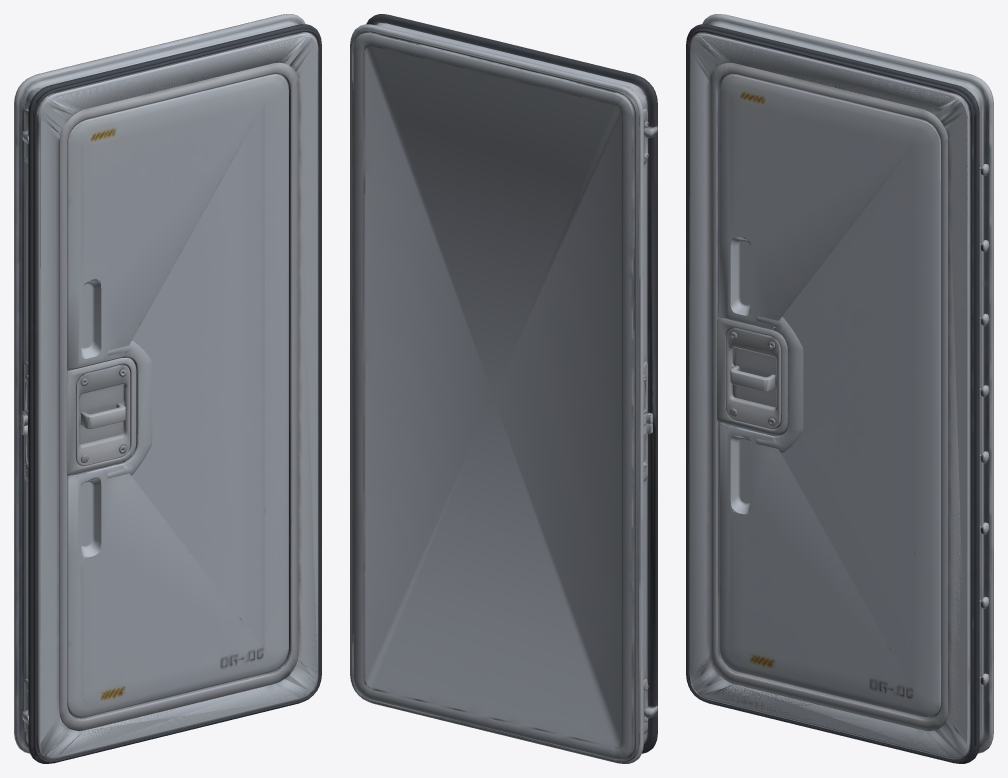
File: tripo_convert_e5aa2199-2188-4ba5-9204-cc80c53cec1e.fbx
The picture shows the model from 3 angles, left to right: view 1: azimuth 30°, elevation 25°; view 2: azimuth 150°, elevation 25°; view 3: azimuth 330°, elevation 25°; orthographic projection.
Parts seen in each view (by area): view 1: tripo_part_0, tripo_part_2, tripo_part_4, tripo_part_1, tripo_part_7, tripo_part_8, tripo_part_36, tripo_part_5, tripo_part_3; view 2: tripo_part_3, tripo_part_0; view 3: tripo_part_0, tripo_part_2, tripo_part_4, tripo_part_1, tripo_part_7, tripo_part_8, tripo_part_5.
Boxes of the visible parts, box(x1,y1,x2,y2) form: tripo_part_0: box(14, 14, 321, 763); tripo_part_2: box(67, 74, 288, 717); tripo_part_4: box(59, 62, 298, 730); tripo_part_1: box(67, 340, 152, 478); tripo_part_7: box(81, 476, 101, 557); tripo_part_8: box(81, 278, 101, 358); tripo_part_36: box(284, 77, 290, 647); tripo_part_5: box(80, 402, 125, 428); tripo_part_3: box(21, 92, 27, 747); tripo_part_3: box(350, 28, 638, 762); tripo_part_0: box(350, 14, 657, 763); tripo_part_0: box(686, 14, 993, 763); tripo_part_2: box(719, 74, 940, 717); tripo_part_4: box(709, 63, 948, 730); tripo_part_1: box(717, 315, 803, 452); tripo_part_7: box(730, 435, 750, 514); tripo_part_8: box(730, 237, 750, 315); tripo_part_5: box(730, 365, 775, 391).
Bounding box in the file's own units: 0.4556 × 0.9995 × 0.0718.
Materials: 1 (1 with a texture image).
